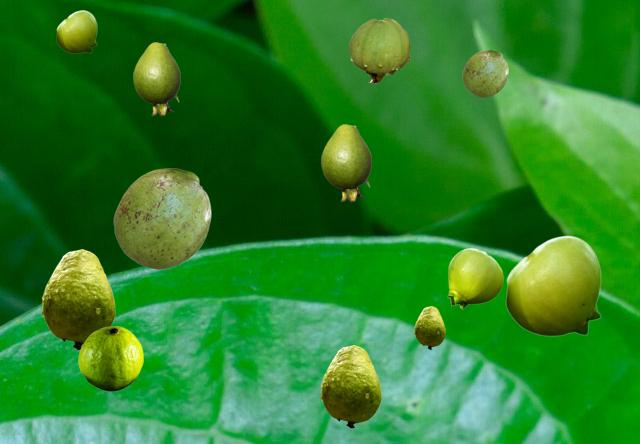guava: (113, 168, 210, 268), (505, 235, 600, 335), (41, 249, 114, 349), (320, 345, 380, 427), (78, 326, 142, 390), (349, 18, 409, 82), (321, 124, 370, 201), (133, 42, 179, 115), (447, 248, 502, 308), (462, 50, 507, 96), (56, 10, 96, 52), (414, 306, 444, 348)
